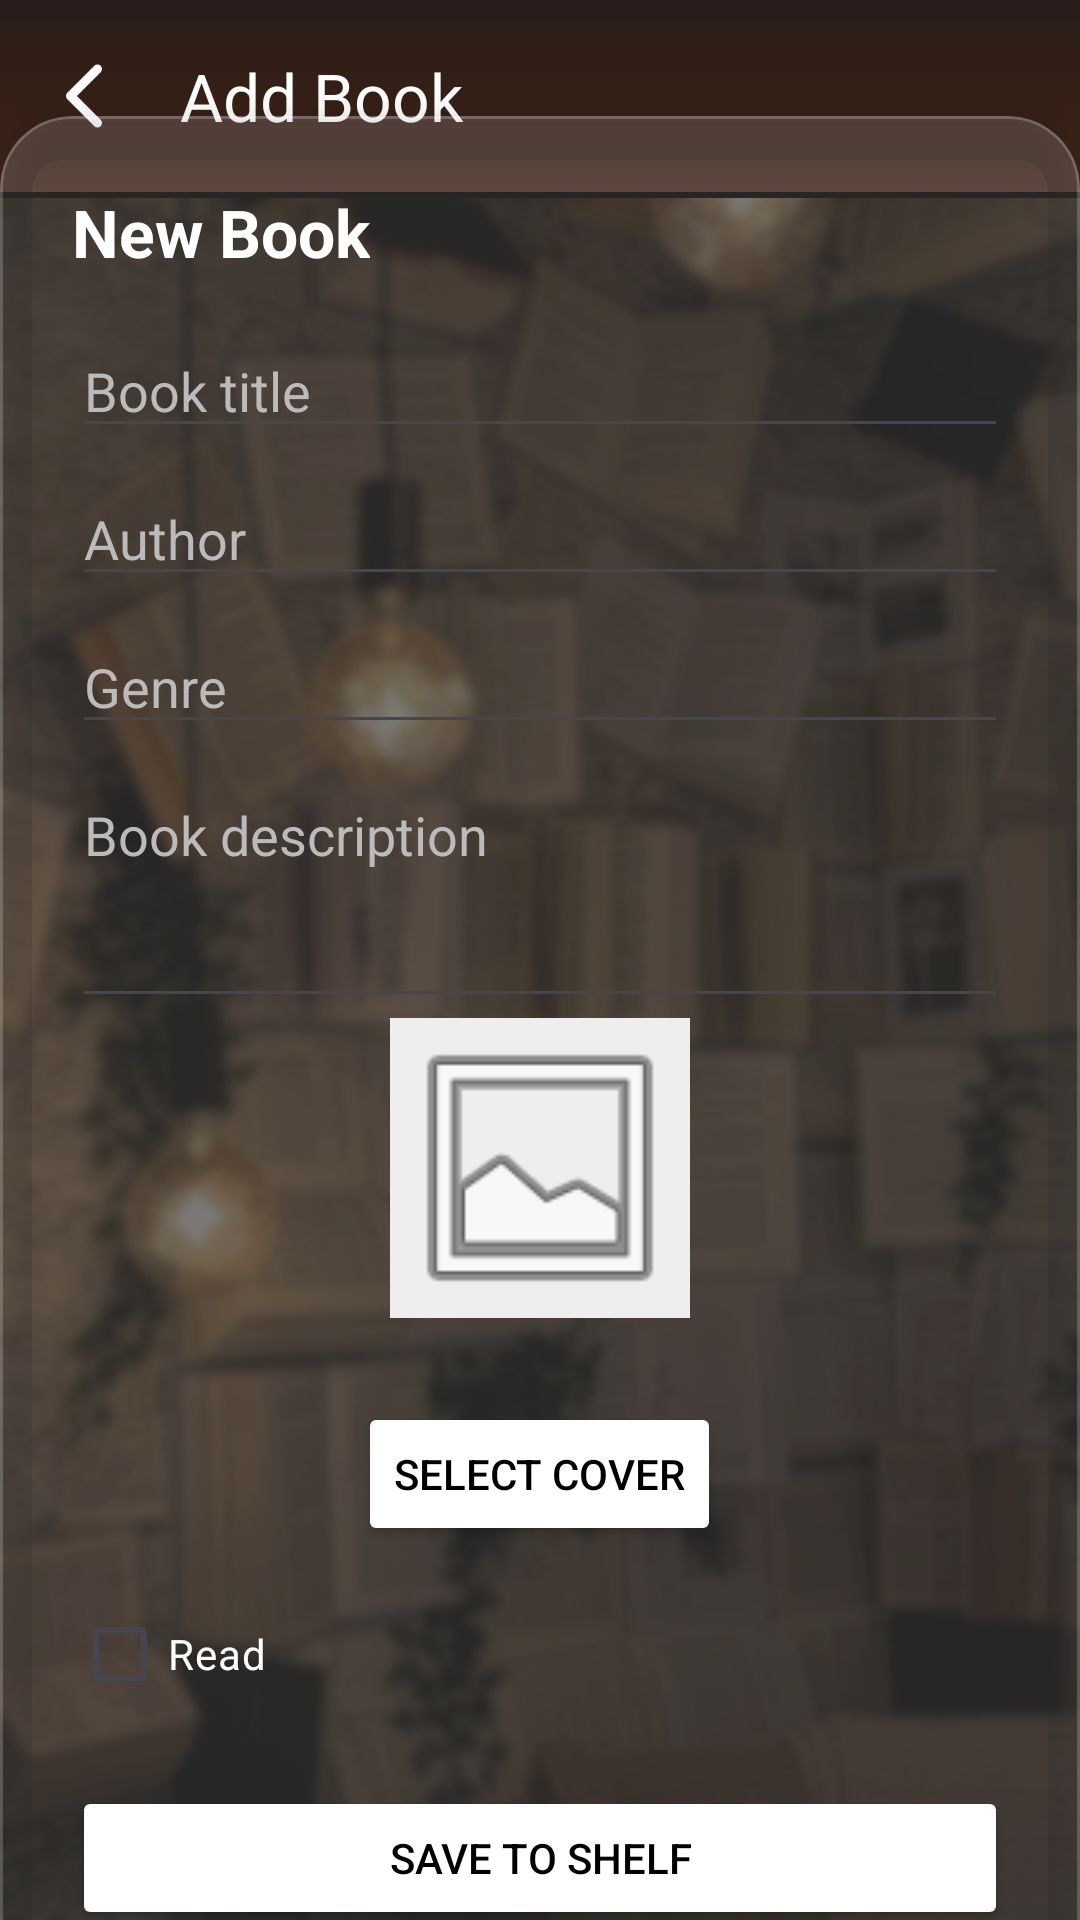

Screen size 1080*1920. Icon name, then its box in pixels as box=[x1, y1, x2, y2]:
gallery: box=[390, 1018, 690, 1318]
